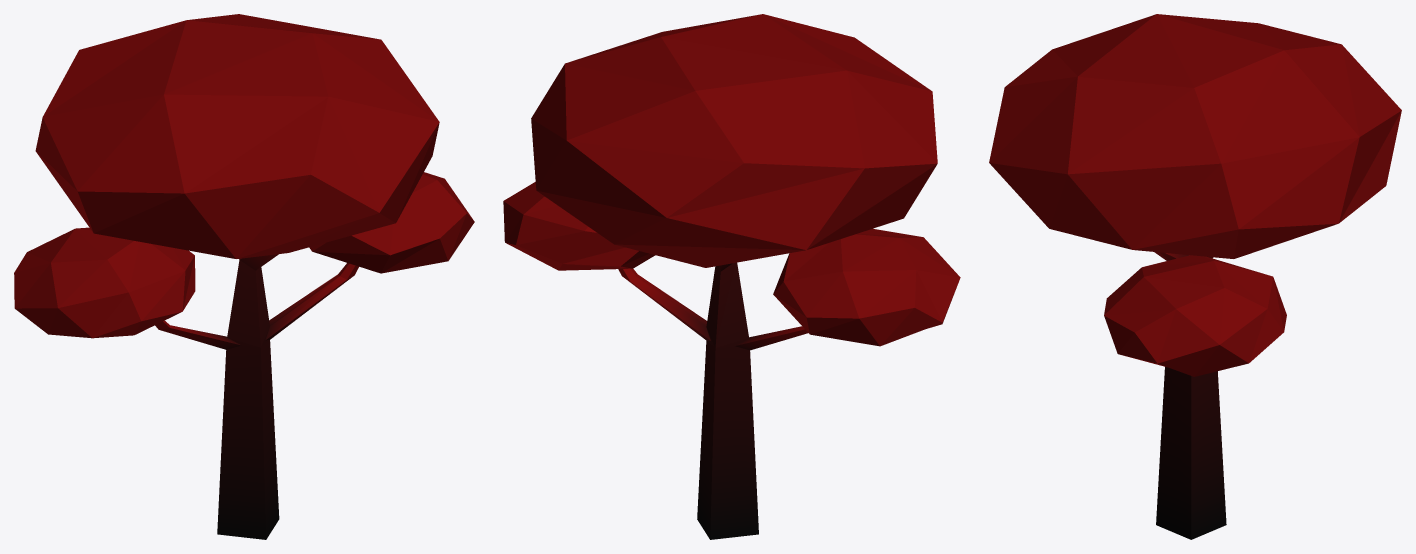
The model's file is SM_peuplier_vertexcolor.FBX.
3 views of the same model, side by side, from view 1: azimuth 30°, elevation 25°; view 2: azimuth 150°, elevation 25°; view 3: azimuth 270°, elevation 25° (orthographic).
Parts seen in each view (by area): view 1: tronc007; view 2: tronc007; view 3: tronc007.
Part boxes in pixels (<box>): tronc007: <box>14,14,474,539</box>; tronc007: <box>503,14,960,539</box>; tronc007: <box>989,14,1401,539</box>.
Size of the model in its own units: 344 by 360 by 287.
